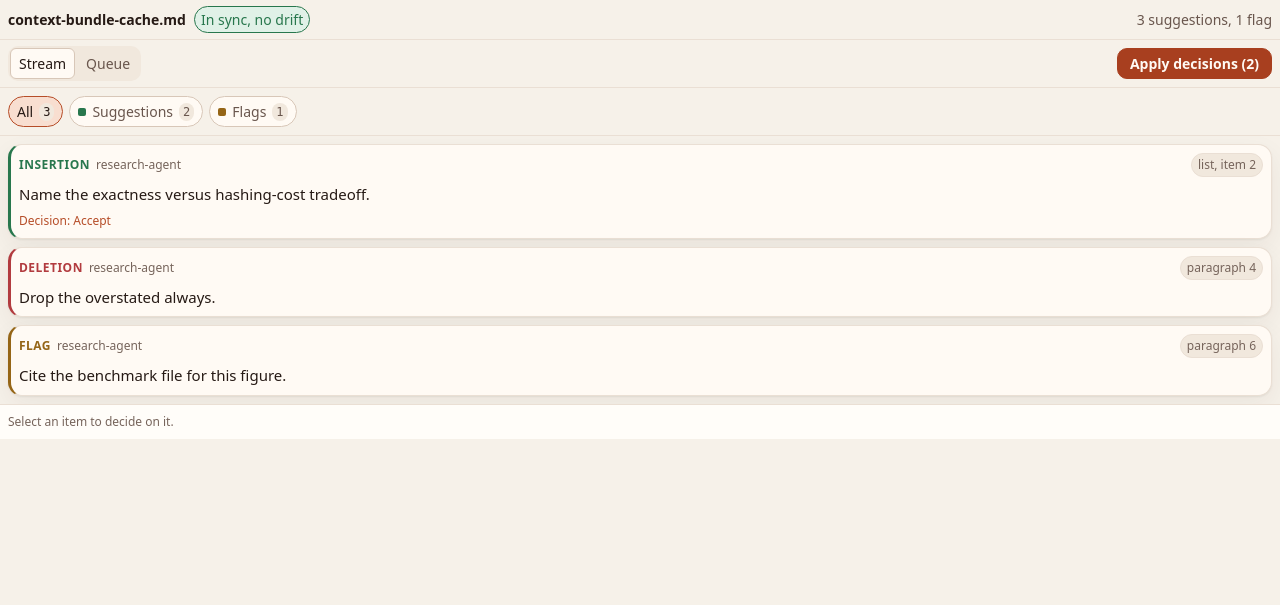
Scenario: ReviewPanel › lets the user remove a blocked decision that is no longer in Review
The width and height of the screenshot is (1280, 605).
What coordinates should you click on to do the following:
click the button "Apply decisions (2)"
I would click on:
 (1194, 64)
Its box is [1117,48,1272,79].
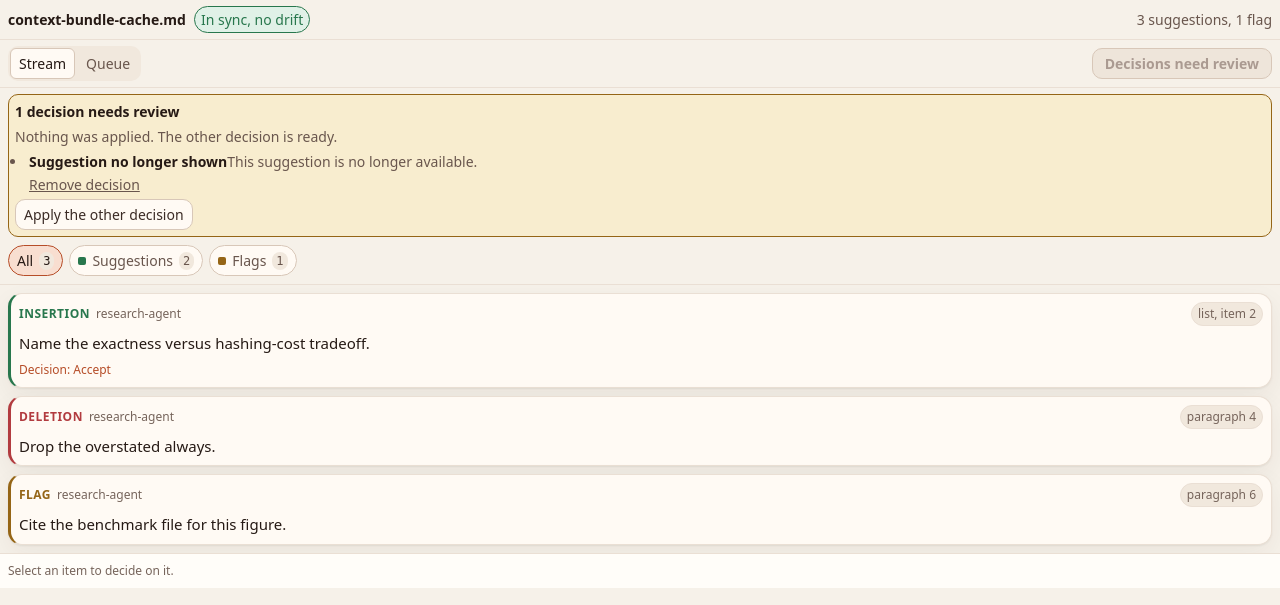
expect the text "Suggestion no longer shown" is shown: met, box [29,152,227,171]
What coordinates should you click on to do the following:
click the button with aria-label "Remove decision: Suggestion no longer shown"
I would click on:
 (84, 184)
Its box is [29,174,140,195].
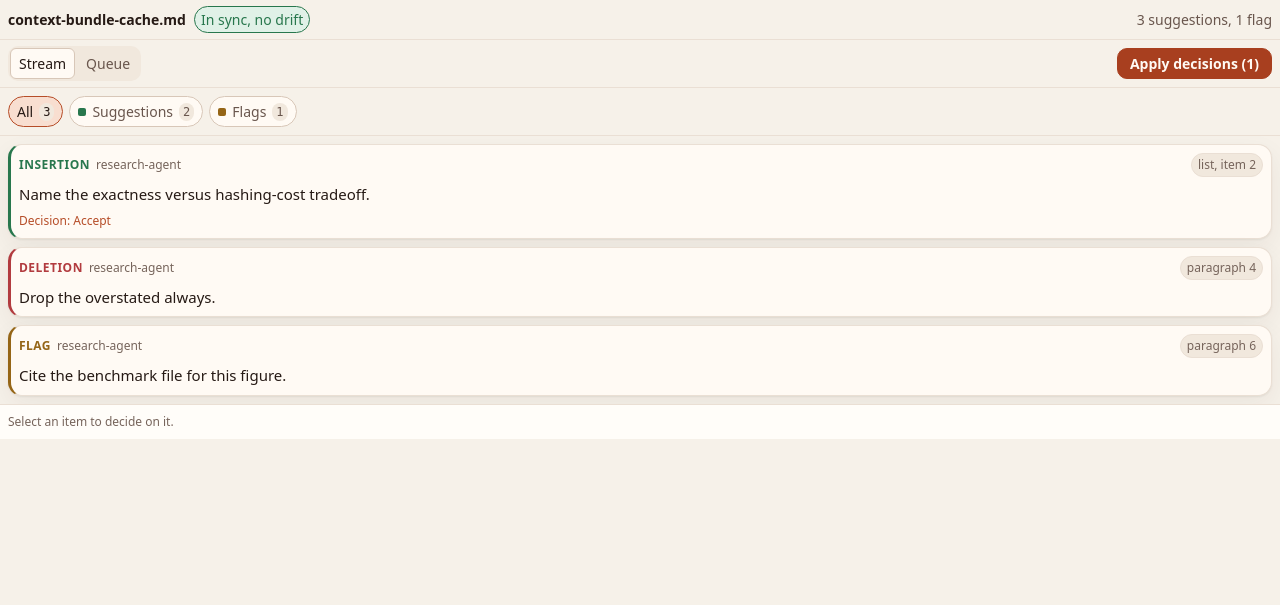
expect the text "1 decision needs review" is gone: met
expect the button "Apply decisions (1)" is enabled: met, box [1117,48,1272,79]
